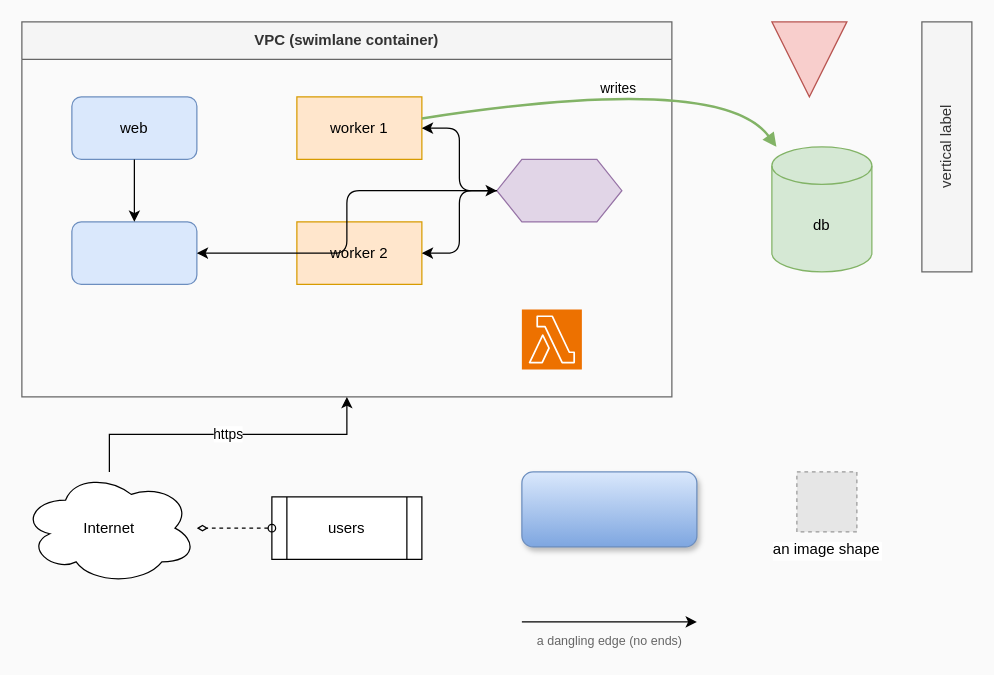
Image size: 994x675. Some labels were removed from this diagram. Grey dashed boxes stand in for pictures. Each missing label, with the centre of its shape:
"api" goes at pixel 134 252.
"fn (AWS icon → box)" goes at pixel 551 338.
"gradient + shadow" goes at pixel 610 511.
"queue" goes at pixel 559 190.
